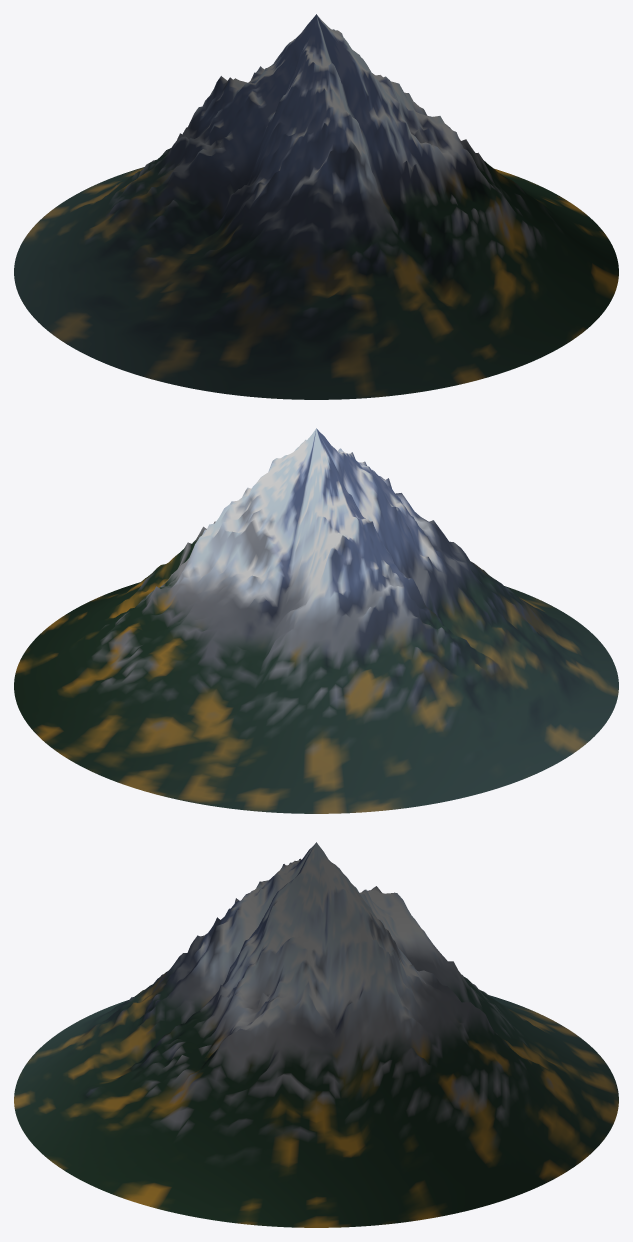
3 renders of one model, top to bottom at view 1: azimuth 30°, elevation 25°; view 2: azimuth 150°, elevation 25°; view 3: azimuth 270°, elevation 25°, orthographic.
Visible parts, largest first — view 1: L4_3_Peak6; view 2: L4_3_Peak6; view 3: L4_3_Peak6.
Part boxes in pixels (bbox=[...]): L4_3_Peak6: bbox=[14, 14, 618, 399]; L4_3_Peak6: bbox=[14, 428, 618, 813]; L4_3_Peak6: bbox=[14, 842, 618, 1227].
Bounding box in the file's own units: 1360 × 640 × 1360.
